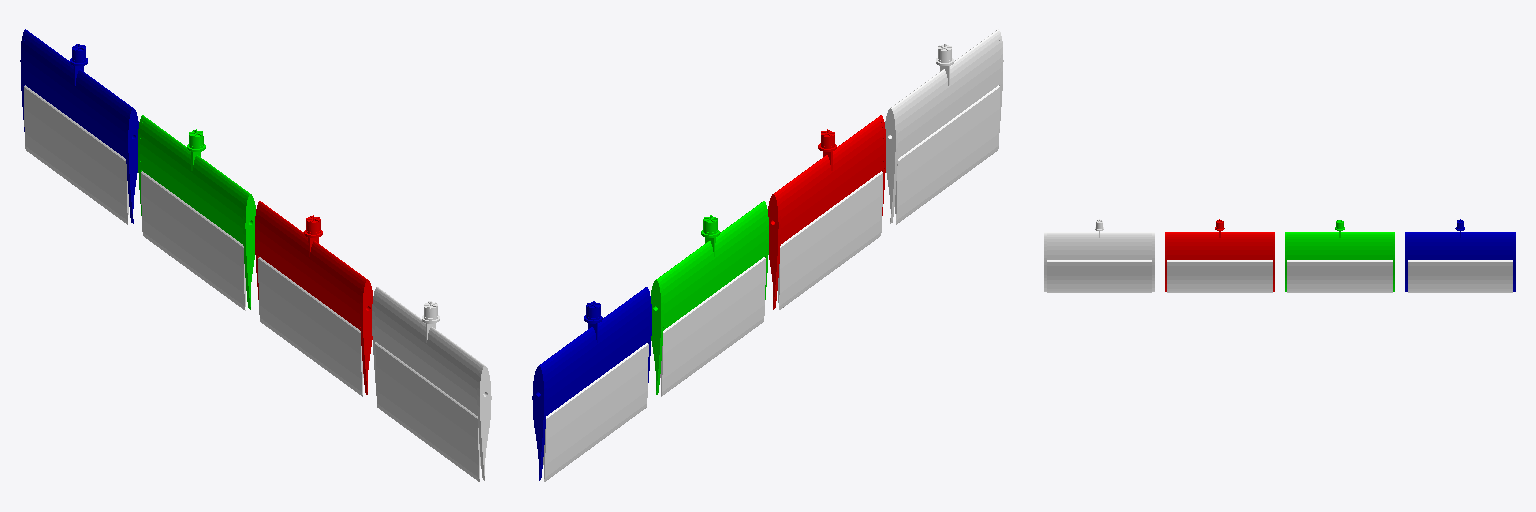
URDF robot description (physics):
<?xml version="1.0"?>
<robot name="physics">


 <!--                                  LINK 0                                   -->
  <link name="link0">
    <visual name='link0_visual'>
        <origin rpy="0 0 0" xyz="0.0 .28 0"/>

        <geometry>
            <mesh filename="package://meshes/mist_mainwing.STL" scale="0.001 0.001 0.001"/>
        </geometry>
      <material name="white">
        <color rgba="1 1 1 1"/>
      </material>
    </visual>
    
    <collision name='link0_collision'>
        <origin rpy="0 0 0" xyz="0 0 -.03 "/>
        <geometry>
            <box size="0.7 0.7 0.4"/>
        </geometry>
    </collision>
    
    <inertial>
      <mass value=".92"/>
      <!-- <origin rpy="0 0 0" xyz="-.003 .28 -.01"/> -->
      <origin rpy="0 0 0" xyz="-.003 .28 0"/>
      <inertia ixx="1.0" ixy="0.0" ixz="0.0" iyy="1.0" iyz="0.0" izz="1.0"/>
    </inertial>
  </link>
 <!--                                  LINK 1                                   -->
 <link name="link1">
    <visual name='link1_visual'>
        <origin rpy="0 0 0" xyz="0.0 .28 0"/>

        <geometry>
            <mesh filename="package://meshes/mist_mainwing.STL" scale="0.001 0.001 0.001"/>
        </geometry>

      <material name="red">
        <color rgba="1 0 0 1"/>
      </material>

    </visual>
    
    <collision name='link1_collision'>
        <origin rpy="0 0 0" xyz="0 0 -.05 "/>
        <geometry>
            <box size="0.7 0.7 0.4"/>
        </geometry>
    </collision>
    
    <inertial>
      <mass value=".92"/>
      <!-- <origin rpy="0 0 0" xyz="-.003 .28 -.01"/> -->
      <origin rpy="0 0 0" xyz="-.003 .28 0"/>
      <inertia ixx="1.0" ixy="0.0" ixz="0.0" iyy="1.0" iyz="0.0" izz="1.0"/>
    </inertial>
  </link>


   <!--                                  LINK 2                                  -->
 <link name="link2">
    <visual name='link2_visual'>
        <origin rpy="0 0 0" xyz="0.0 .28 0"/>

        <geometry>
            <mesh filename="package://meshes/mist_mainwing.STL" scale="0.001 0.001 0.001"/>
        </geometry>
      
      <material name="green">
        <color rgba="0 1 0 1"/>
      </material>
    </visual>
    
    <collision name='link2_collision'>
        <origin rpy="0 0 0" xyz="0 0 -.05 "/>
        <geometry>
            <box size="0.7 0.7 0.4"/>
        </geometry>
    </collision>
    
    <inertial>
      <mass value=".92"/>
      <!-- <origin rpy="0 0 0" xyz="-.003 .28 -.01"/> -->
      <origin rpy="0 0 0" xyz="-.003 .28 0"/>
      <inertia ixx="1.0" ixy="0.0" ixz="0.0" iyy="1.0" iyz="0.0" izz="1.0"/>
    </inertial>
  </link>

     <!--                                  LINK 3                                  -->
 <link name="link3">
    <visual name='link3_visual'>
        <origin rpy="0 0 0" xyz="0.0 .28 0"/>

        <geometry>
            <mesh filename="package://meshes/mist_mainwing.STL" scale="0.001 0.001 0.001"/>
        </geometry>
      <material name="blue">
        <color rgba="0 0 .8 1"/>
      </material>

    </visual>
    
    <collision name='link3_collision'>
        <origin rpy="0 0 0" xyz="0 0 -.05 "/>
        <geometry>
            <box size="0.7 0.7 0.4"/>
        </geometry>
    </collision>
    
    <inertial>
      <mass value=".92"/>
      <!-- <origin rpy="0 0 0" xyz="-.003 .28 -.01"/> -->
      <origin rpy="0 0 0" xyz="-.003 .28 0"/>
      <inertia ixx="1.0" ixy="0.0" ixz="0.0" iyy="1.0" iyz="0.0" izz="1.0"/>
    </inertial>
  </link>


    <joint name="h0_joint" type="revolute">
    <axis xyz="0 0 1"/>
    <parent link="link0"/>
    <child link="link1"/>
    <origin rpy="0 0 0" xyz="0 .58 0"/>
    <!-- <limit effort="1" velocity="1" lower="0" upper="1.57079632679"/> -->
    <limit effort="10000" velocity="10000" lower="-.5" upper="2"/>
    <joint_properties damping="1.0" friction="0.0"/>
  </joint>

      <joint name="h1_joint" type="revolute">
    <axis xyz="0 0 1"/>
    <parent link="link1"/>
    <child link="link2"/>
    <origin rpy="0 0 0" xyz="0 .58 0"/>
    <!-- <limit effort="1" velocity="1" lower="0" upper="1.57079632679"/> -->
    <limit effort="10000" velocity="10000" lower="-.5" upper="2"/>
    <joint_properties damping="1.0" friction="0.0"/>
  </joint>

        <joint name="h2_joint" type="revolute">
    <axis xyz="0 0 1"/>
    <parent link="link2"/>
    <child link="link3"/>
    <origin rpy="0 0 0" xyz="0 .58 0"/>
    <!-- <limit effort="1" velocity="1" lower="0" upper="1.57079632679"/> -->
    <limit effort="10000" velocity="10000" lower="-.5" upper="2"/>
    <joint_properties damping="1.0" friction="0.0"/>
  </joint>





<!--                              control surface 0                       -->
  <link name="ctrlsurf0">
    <visual name='ctrlsurf0_visual'>
        <origin rpy="0 0 0" xyz="0.0 .28 -.05"/>

        <geometry>
            <mesh filename="package://meshes/mist_controlsurface.STL" scale="0.001 0.001 0.001"/>
        </geometry>
      <material name="white">
        <color rgba="1 1 1 1"/>
      </material>
    </visual>
    
    <inertial>
      <mass value=".1"/>
      <inertia ixx="1.0" ixy="0.0" ixz="0.0" iyy="1.0" iyz="0.0" izz="1.0"/>
    </inertial>
  </link>


  <!--                              control surface 1                       -->
  <link name="ctrlsurf1">
    <visual name='ctrlsurf1_visual'>
        <origin rpy="0 0 0" xyz="0.0 .28 -.05"/>

        <geometry>
            <mesh filename="package://meshes/mist_controlsurface.STL" scale="0.001 0.001 0.001"/>
        </geometry>
      <material name="white">
      </material>
    </visual>
    
    <inertial>
      <mass value=".1"/>
      <inertia ixx="1.0" ixy="0.0" ixz="0.0" iyy="1.0" iyz="0.0" izz="1.0"/>
    </inertial>
  </link>


  <!--                              control surface 2                       -->
  <link name="ctrlsurf2">
    <visual name='ctrlsurf2_visual'>
        <origin rpy="0 0 0" xyz="0.0 .28 -.05"/>

        <geometry>
            <mesh filename="package://meshes/mist_controlsurface.STL" scale="0.001 0.001 0.001"/>
        </geometry>
      <material name="white">
      </material>
    </visual>
    
    <inertial>
      <mass value=".1"/>
      <inertia ixx="1.0" ixy="0.0" ixz="0.0" iyy="1.0" iyz="0.0" izz="1.0"/>
    </inertial>
  </link>


  <!--                              control surface 3                       -->
  <link name="ctrlsurf3">
    <visual name='ctrlsurf3_visual'>
        <origin rpy="0 0 0" xyz="0.0 .28 -.05"/>

        <geometry>
            <mesh filename="package://meshes/mist_controlsurface.STL" scale="0.001 0.001 0.001"/>
        </geometry>
      <material name="white">
      </material>
    </visual>
    
    <inertial>
      <mass value=".1"/>
      <inertia ixx="1.0" ixy="0.0" ixz="0.0" iyy="1.0" iyz="0.0" izz="1.0"/>
    </inertial>
  </link>

  <joint name="link0_ctrlsurf0" type="revolute">
    <axis xyz="0 1 0"/>
    <parent link="link0"/>
    <child link="ctrlsurf0"/>
    <origin rpy="0 0 0" xyz="-.003 0 -.08"/>
    <limit effort="1" velocity="1" lower="-1.57079632679" upper="1.57079632679"/>
    <joint_properties damping="1.0" friction="0.0"/>
  </joint>

  <joint name="link1_ctrlsurf1" type="revolute">
    <axis xyz="0 1 0"/>
    <parent link="link1"/>
    <child link="ctrlsurf1"/>
    <origin rpy="0 0 0" xyz="-.003 0 -.08"/>
    <limit effort="1" velocity="1" lower="-1.57079632679" upper="1.57079632679"/>
    <joint_properties damping="1.0" friction="0.0"/>
  </joint>


  <joint name="link2_ctrlsurf2" type="revolute">
    <axis xyz="0 1 0"/>
    <parent link="link2"/>
    <child link="ctrlsurf2"/>
    <origin rpy="0 0 0" xyz="-.003 0 -.08"/>
    <limit effort="1" velocity="1" lower="-1.57079632679" upper="1.57079632679"/>
    <joint_properties damping="1.0" friction="0.0"/>
  </joint>

  <joint name="link3_ctrlsurf3" type="revolute">
    <axis xyz="0 1 0"/>
    <parent link="link3"/>
    <child link="ctrlsurf3"/>
    <origin rpy="0 0 0" xyz="-.003 0 -.08"/>
    <limit effort="1" velocity="1" lower="-1.57079632679" upper="1.57079632679"/>
    <joint_properties damping="1.0" friction="0.0"/>
  </joint>

<!--                               Propeller 0                             -->
<link name="prop0">
    <visual name='prop0_visual'>
        <origin rpy="0 0 0" xyz="0.0 0 -.05"/>

        <geometry>
            <mesh filename="package://meshes/propeller_ccw.dae" scale="0.1 0.1 0.1"/>
        </geometry>
      <material name="blue">
      </material>
    </visual>
    
    <inertial>
      <mass value=".02"/>
      <inertia ixx="1.0" ixy="0.0" ixz="0.0" iyy="1.0" iyz="0.0" izz="1.0"/>
    </inertial>
  </link>

<!--                               Propeller 1                             -->
<link name="prop1">
    <visual name='prop1_visual'>
        <origin rpy="0 0 0" xyz="0.0 0 -.05"/>

        <geometry>
            <mesh filename="package://meshes/propeller_ccw.dae" scale="0.1 0.1 0.1"/>
        </geometry>
      <material name="blue">
      </material>
    </visual>
    
    <inertial>
      <mass value=".02"/>
      <inertia ixx="1.0" ixy="0.0" ixz="0.0" iyy="1.0" iyz="0.0" izz="1.0"/>
    </inertial>
  </link>


  <!--                               Propeller 2                             -->
<link name="prop2">
    <visual name='prop2_visual'>
        <origin rpy="0 0 0" xyz="0.0 0 -.05"/>

        <geometry>
            <mesh filename="package://meshes/propeller_ccw.dae" scale="0.1 0.1 0.1"/>
        </geometry>
      <material name="blue">
      </material>
    </visual>
    
    <inertial>
      <mass value=".02"/>
      <inertia ixx="1.0" ixy="0.0" ixz="0.0" iyy="1.0" iyz="0.0" izz="1.0"/>
    </inertial>
  </link>



  <!--                               Propeller 3                             -->
<link name="prop3">
    <visual name='prop3_visual'>
        <origin rpy="0 0 0" xyz="0.0 0 -.05"/>

        <geometry>
            <mesh filename="package://meshes/propeller_ccw.dae" scale="0.1 0.1 0.1"/>
        </geometry>
      <material name="blue">
      </material>
    </visual>
    
    <inertial>
      <mass value=".02"/>
      <inertia ixx="1.0" ixy="0.0" ixz="0.0" iyy="1.0" iyz="0.0" izz="1.0"/>
    </inertial>
  </link>



  <joint name="link0_prop0" type="continuous">
    <axis xyz="0 0 1"/>
    <parent link="link0"/>
    <child link="prop0"/>
    <origin rpy="0 0 0" xyz="-.003 .28 .185"/>
    <!-- <limit effort="1" velocity="1" lower="-1.57079632679" upper="1.57079632679"/> -->
    <joint_properties damping="1.0" friction="0.0"/>
  </joint>

  <joint name="link1_prop1" type="continuous">
    <axis xyz="0 0 1"/>
    <parent link="link1"/>
    <child link="prop1"/>
    <origin rpy="0 0 0" xyz="-.003 .28 .185"/>
    <!-- <limit effort="1" velocity="1" lower="-1.57079632679" upper="1.57079632679"/> -->
    <joint_properties damping="1.0" friction="0.0"/>
  </joint>

  <joint name="link2_prop2" type="continuous">
    <axis xyz="0 0 1"/>
    <parent link="link2"/>
    <child link="prop2"/>
    <origin rpy="0 0 0" xyz="-.003 .28 .185"/>
    <!-- <limit effort="1" velocity="1" lower="-1.57079632679" upper="1.57079632679"/> -->
    <joint_properties damping="1.0" friction="0.0"/>
  </joint>

  <joint name="link3_prop3" type="continuous">
    <axis xyz="0 0 1"/>
    <parent link="link3"/>
    <child link="prop3"/>
    <origin rpy="0 0 0" xyz="-.003 .28 .185"/>
    <!-- <limit effort="1" velocity="1" lower="-1.57079632679" upper="1.57079632679"/> -->
    <joint_properties damping="1.0" friction="0.0"/>
  </joint>





</robot>

--- Facts derived from the render (not from the file) ---
The picture shows the robot from 3 angles, left to right: view 1: azimuth 30°, elevation 25°; view 2: azimuth 150°, elevation 25°; view 3: azimuth 270°, elevation 25°; orthographic projection.
Model physics with 12 links and 11 joints (7 revolute, 4 continuous), rooted at link0, posed all joints at 0.
Links seen in each view (by area): view 1: link0, link1, link2, link3, ctrlsurf1, ctrlsurf2, ctrlsurf3, ctrlsurf0; view 2: link3, link2, link0, link1, ctrlsurf2, ctrlsurf1, ctrlsurf3, ctrlsurf0; view 3: ctrlsurf1, ctrlsurf2, ctrlsurf0, ctrlsurf3, link3, link0, link2, link1.
Boxes of the visible links, box(x1,y1,x2,y2) form: link0: box(372, 287, 491, 480); link1: box(255, 201, 372, 394); link2: box(138, 115, 255, 309); link3: box(20, 29, 138, 223); ctrlsurf1: box(258, 257, 363, 396); ctrlsurf2: box(141, 171, 245, 310); ctrlsurf3: box(24, 85, 128, 224); ctrlsurf0: box(375, 343, 480, 481); link3: box(532, 287, 651, 480); link2: box(651, 201, 768, 394); link0: box(885, 29, 1003, 223); link1: box(768, 115, 885, 309); ctrlsurf2: box(660, 257, 765, 396); ctrlsurf1: box(778, 171, 882, 309); ctrlsurf3: box(543, 343, 648, 481); ctrlsurf0: box(895, 85, 999, 224); ctrlsurf1: box(1167, 260, 1272, 292); ctrlsurf2: box(1287, 260, 1392, 292); ctrlsurf0: box(1047, 260, 1151, 292); ctrlsurf3: box(1408, 260, 1512, 292); link3: box(1405, 219, 1515, 291); link0: box(1044, 219, 1154, 291); link2: box(1285, 220, 1394, 291); link1: box(1165, 219, 1274, 291).
Size in the robot's own frame: 0.0458 by 2.27 by 0.3912 metres.
8 mesh visuals loaded from 3 distinct referenced files (2 binary STL); not drawn: 4 (reference not matched to a file when rendering).